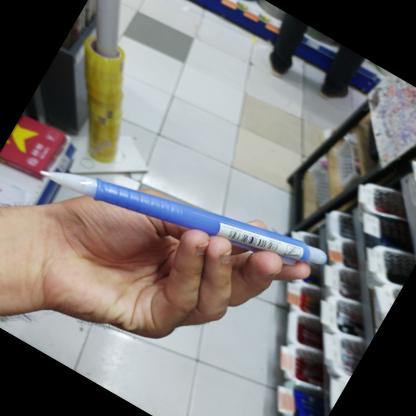pencil: (40, 176, 325, 274)
